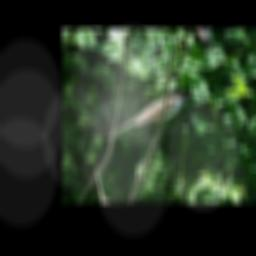Cuckoo: (106, 68, 197, 166)
